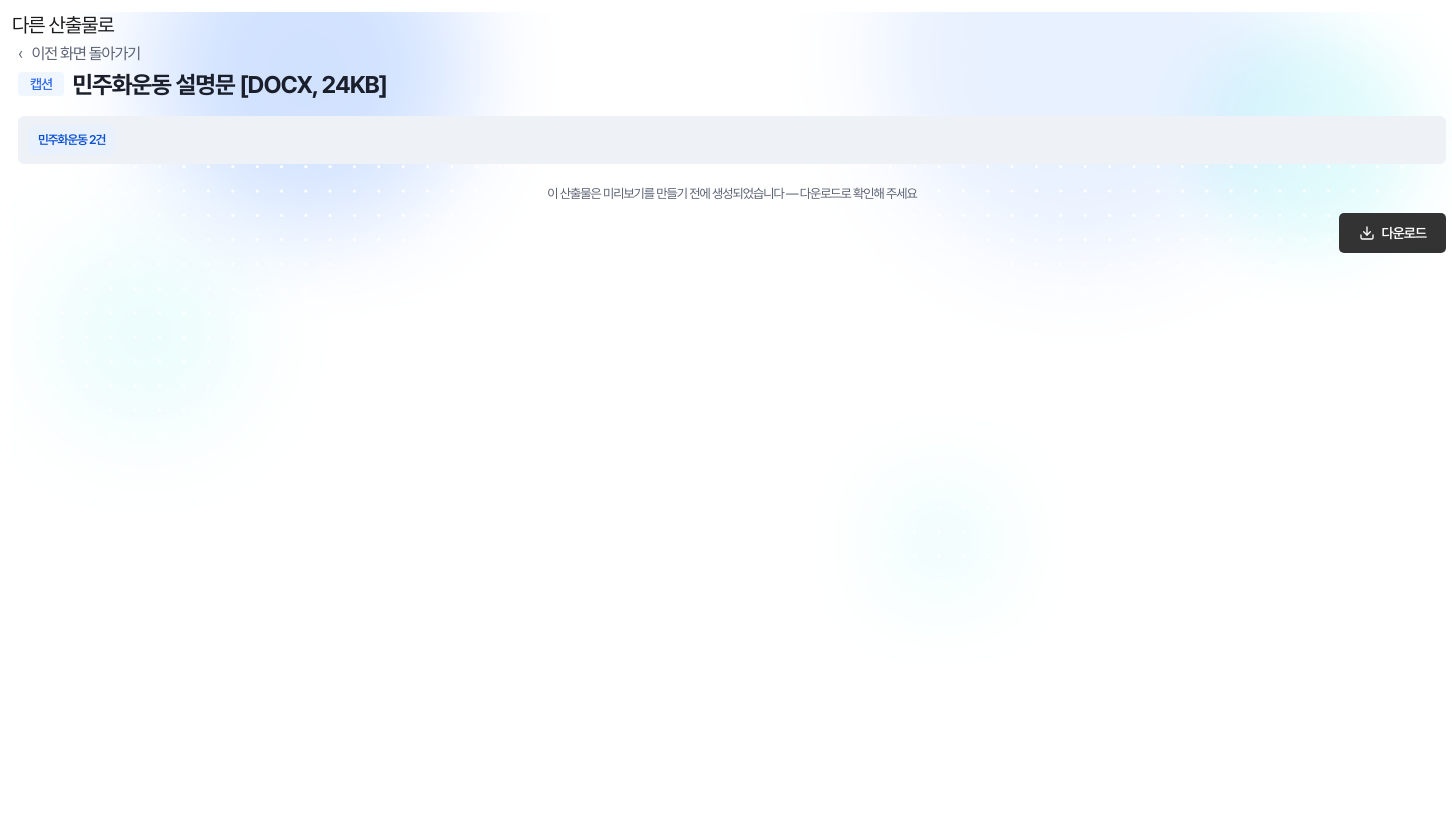
정상 → 없는 id 로 옮기면 앞 산출물이 남지 않는다
This screenshot has width=1452, height=822.
Expected: the text "민주화운동 설명문 [DOCX, 24KB]" is shown, [66,69,387,100]
Click the link "다른 산출물로" at (63, 25), box [12,13,114,37]
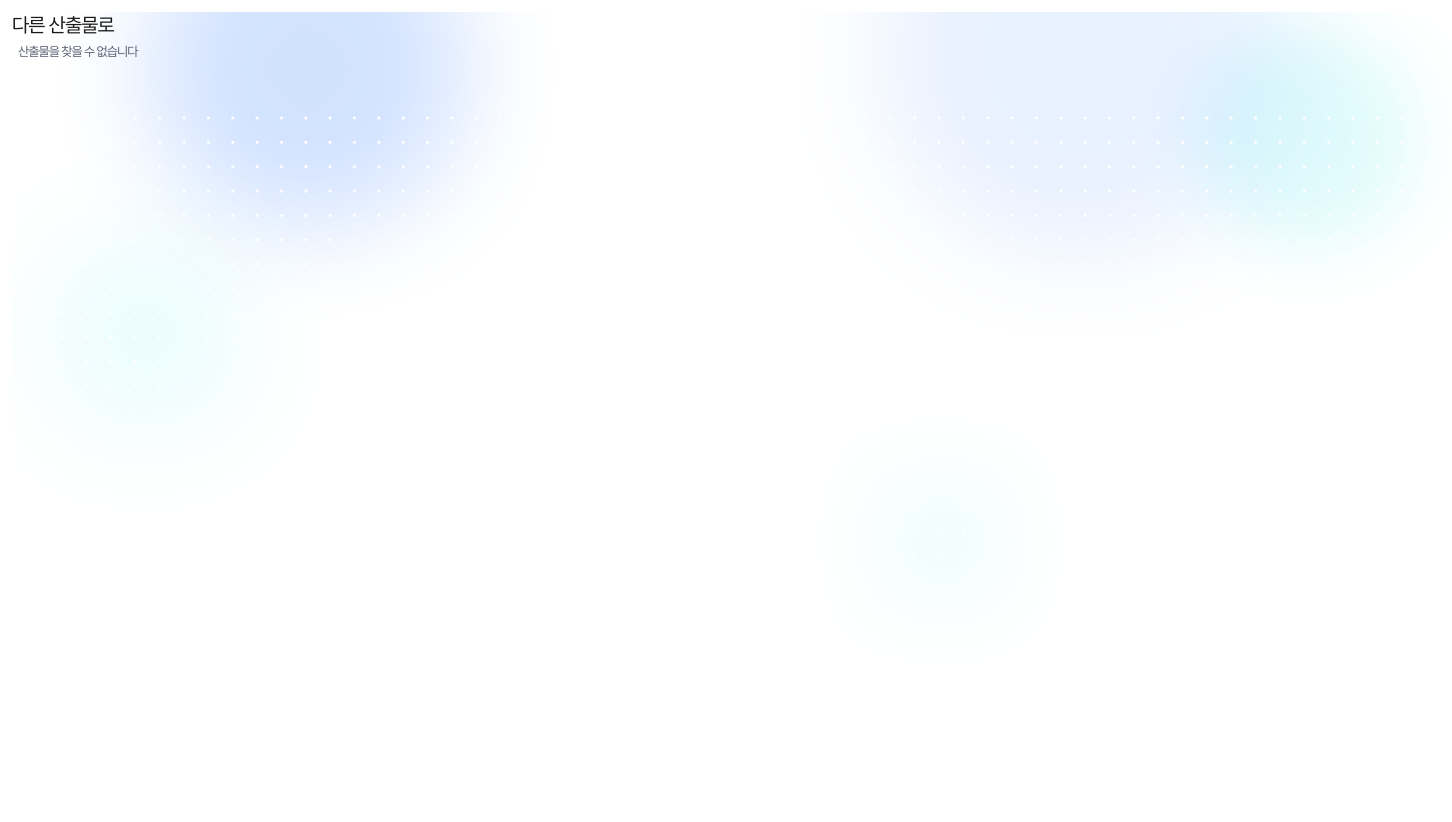
Now the text "산출물을 찾을 수 없습니다" is shown, box [18,44,137,59]
Now the text "민주화운동 설명문" is gone
